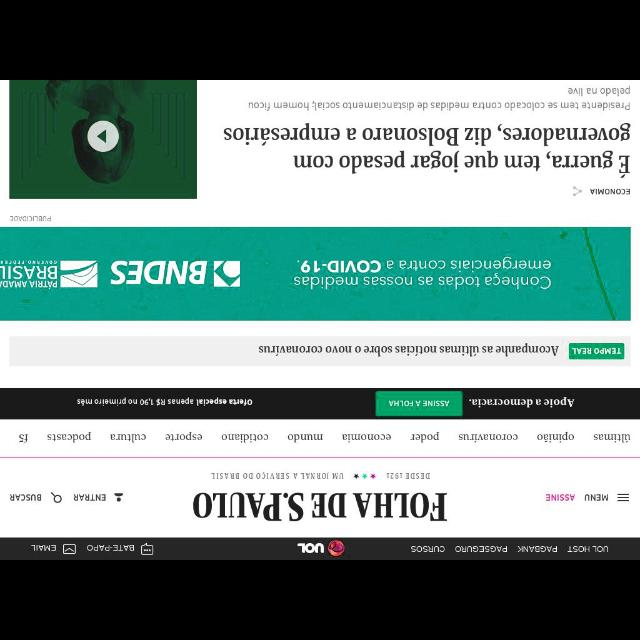icon: (140, 542, 154, 556), (616, 492, 630, 504), (62, 543, 76, 553), (571, 186, 583, 197), (52, 490, 62, 502), (115, 492, 125, 504)
iframe: (3, 227, 630, 321), (8, 80, 196, 198), (1, 388, 637, 419)
image: (192, 492, 446, 522), (298, 539, 344, 557), (354, 474, 376, 478)
text: (223, 122, 631, 180), (249, 86, 631, 110), (256, 344, 558, 356), (74, 398, 253, 404), (212, 471, 342, 479), (469, 396, 573, 406), (389, 397, 449, 407), (458, 432, 516, 442), (518, 542, 558, 554), (592, 432, 632, 443), (46, 432, 90, 442), (109, 432, 147, 443), (572, 347, 622, 355), (590, 187, 630, 197), (536, 432, 574, 442), (164, 431, 202, 441), (87, 543, 133, 551), (222, 434, 268, 442), (386, 472, 430, 480), (8, 214, 52, 222), (342, 434, 392, 441), (72, 493, 106, 503), (454, 546, 508, 552), (569, 544, 609, 552), (9, 492, 41, 502), (286, 433, 324, 441), (410, 432, 440, 442), (546, 493, 576, 501), (412, 546, 444, 552), (585, 494, 607, 501), (32, 544, 56, 550), (18, 432, 28, 442)
textbutton: (376, 390, 462, 416)
